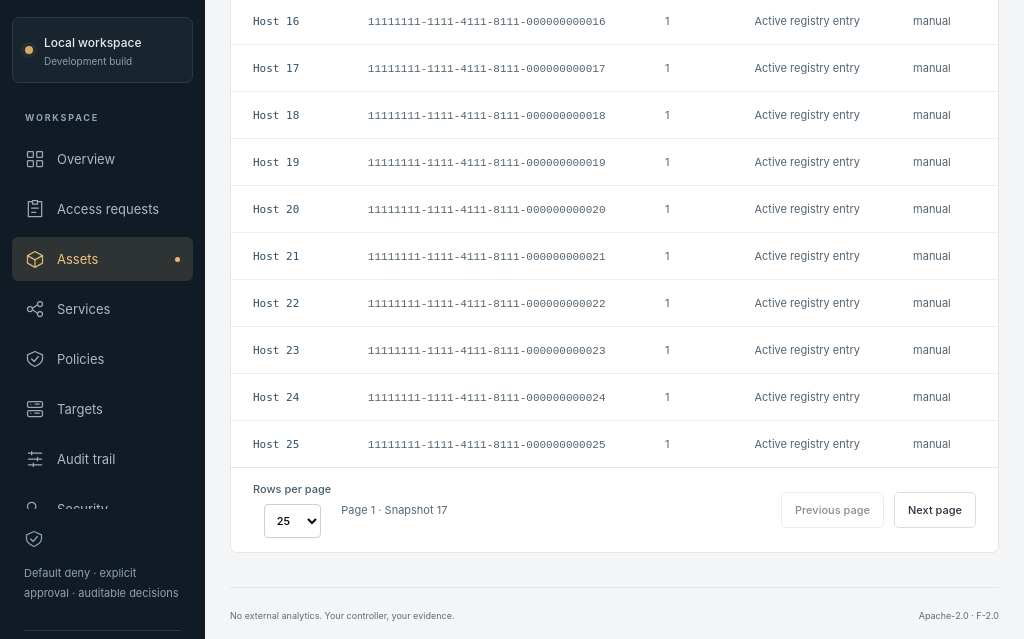
Test case: saved registry mutations discard old collection cursors before returning to the list
(page scrolled)
Click the button "Next page".
click(935, 510)  # box [894, 492, 976, 528]
(page scrolled)
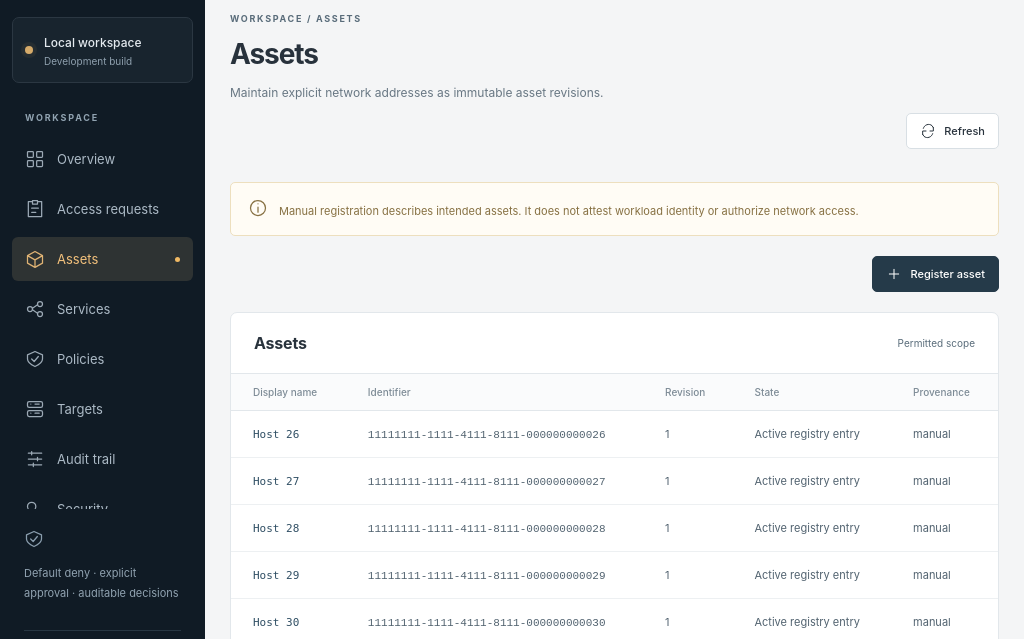
Check: the button "Host 26" is shown, box [253, 428, 299, 441]
Click the button "Register asset".
click(936, 274)  # box [872, 256, 999, 292]
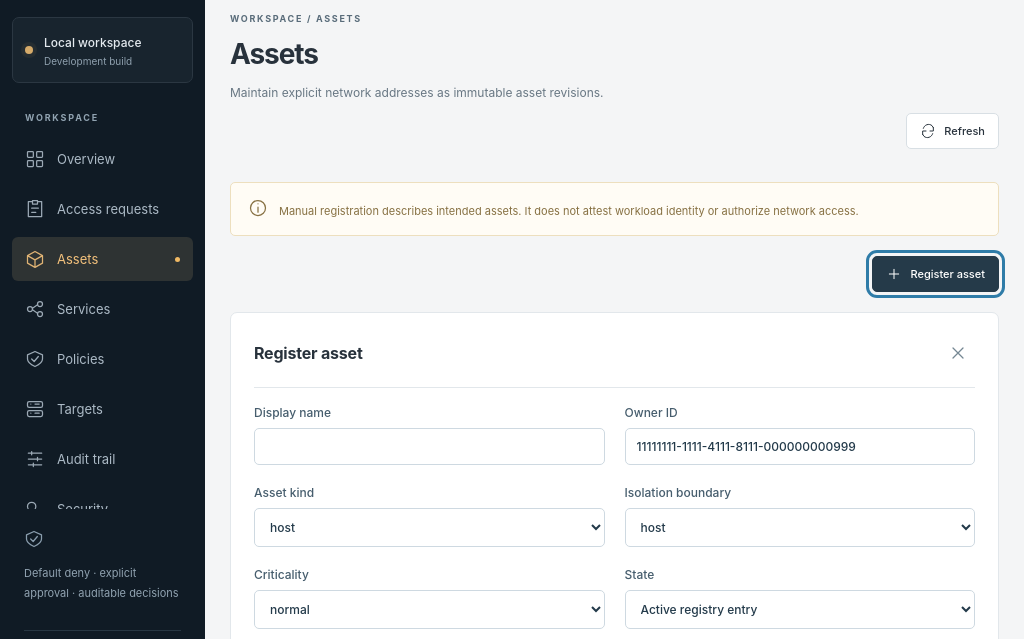
Type "New host" into the field labelled "Display name".
click(429, 447); type("New host")  # box [254, 428, 604, 465]
(page scrolled)
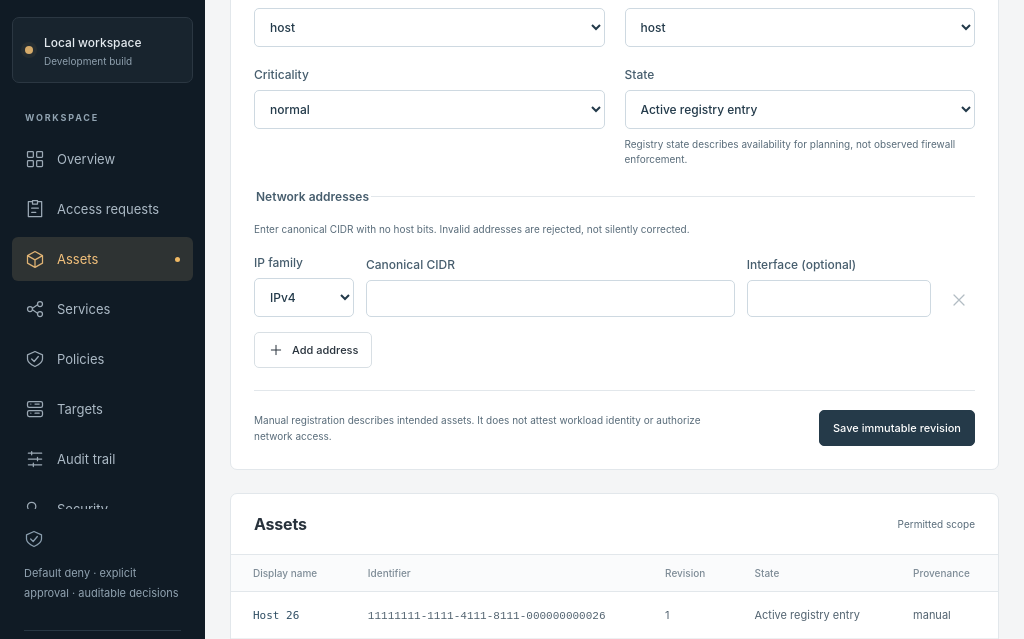
Type "192.0.2.99/32" into the field named "Canonical CIDR 1".
click(550, 299); type("192.0.2.99/32")  # box [366, 280, 735, 317]
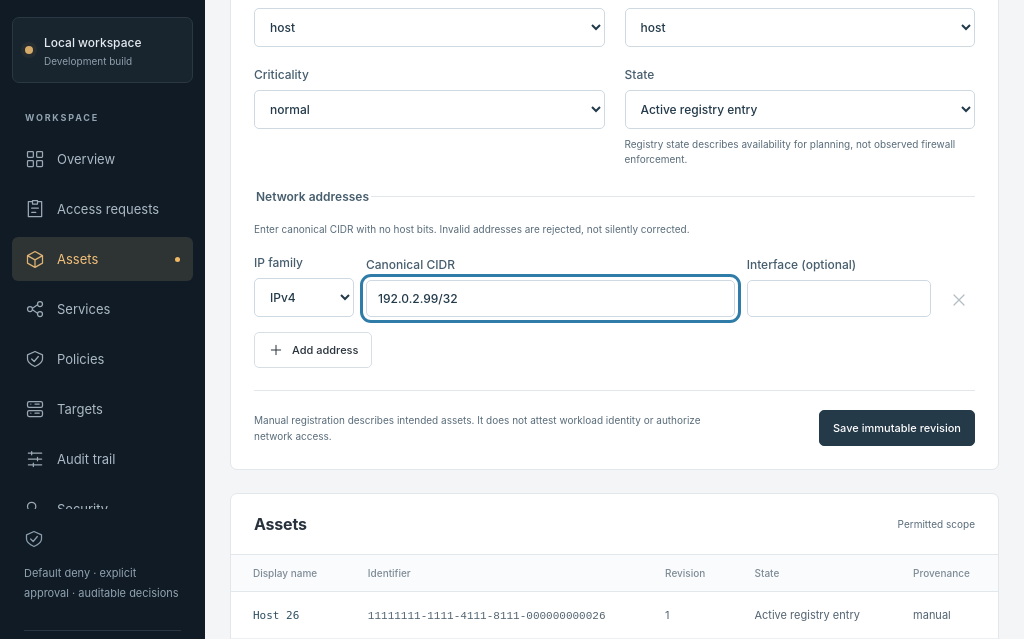
Click the button "Save immutable revision".
click(897, 428)  # box [819, 410, 975, 446]
(page scrolled)
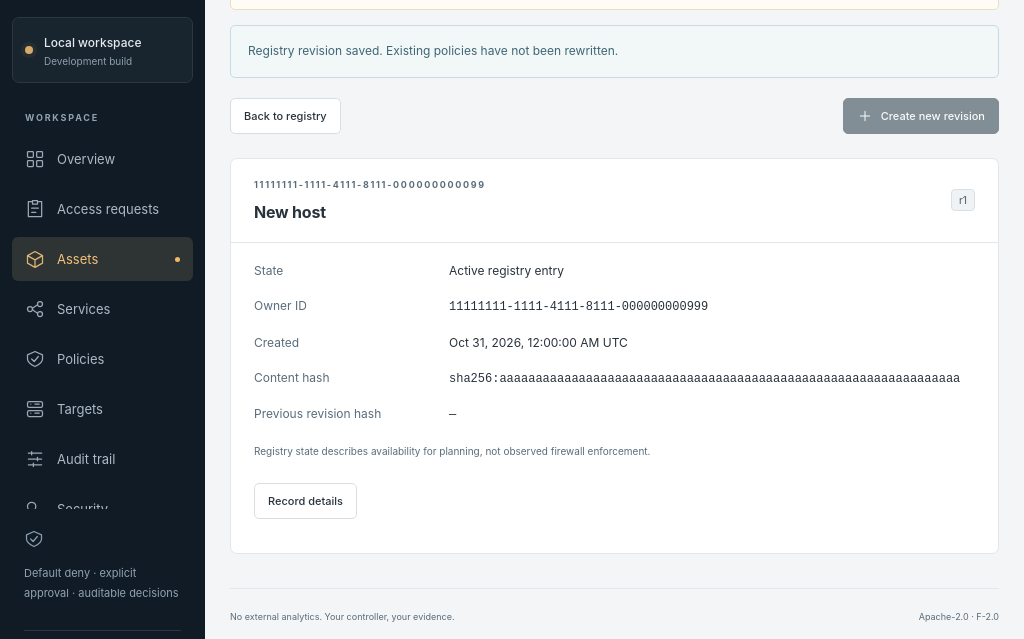
Check: the text "Registry revision saved. Existing policies have not been rewritten." is shown, box [230, 25, 999, 78]
Click the button "Back to registry".
click(285, 116)  # box [230, 98, 341, 134]
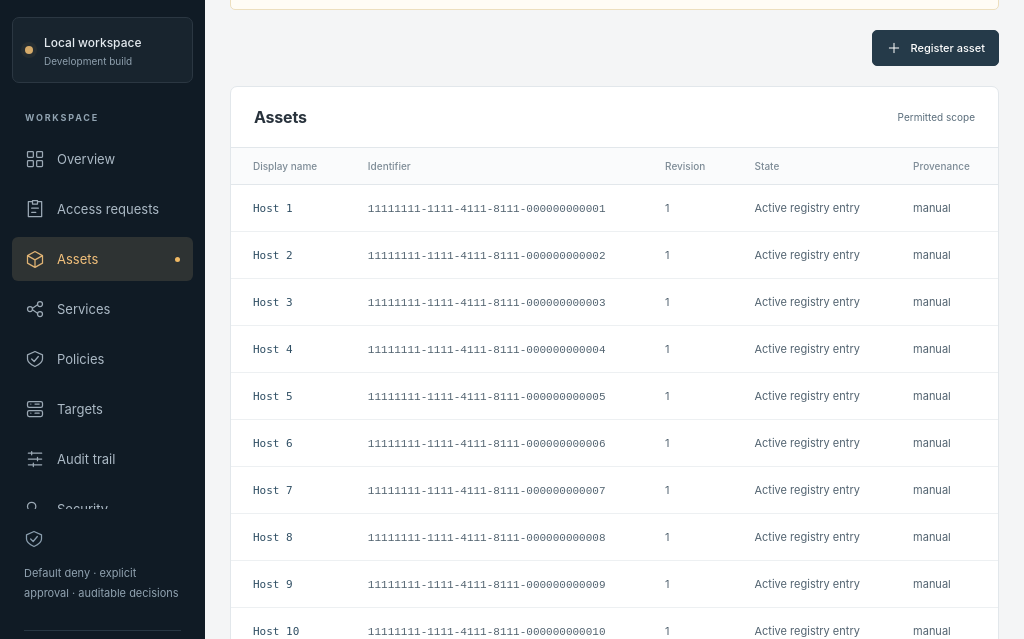
Check: the button "Host 1" is shown, box [253, 202, 293, 215]
